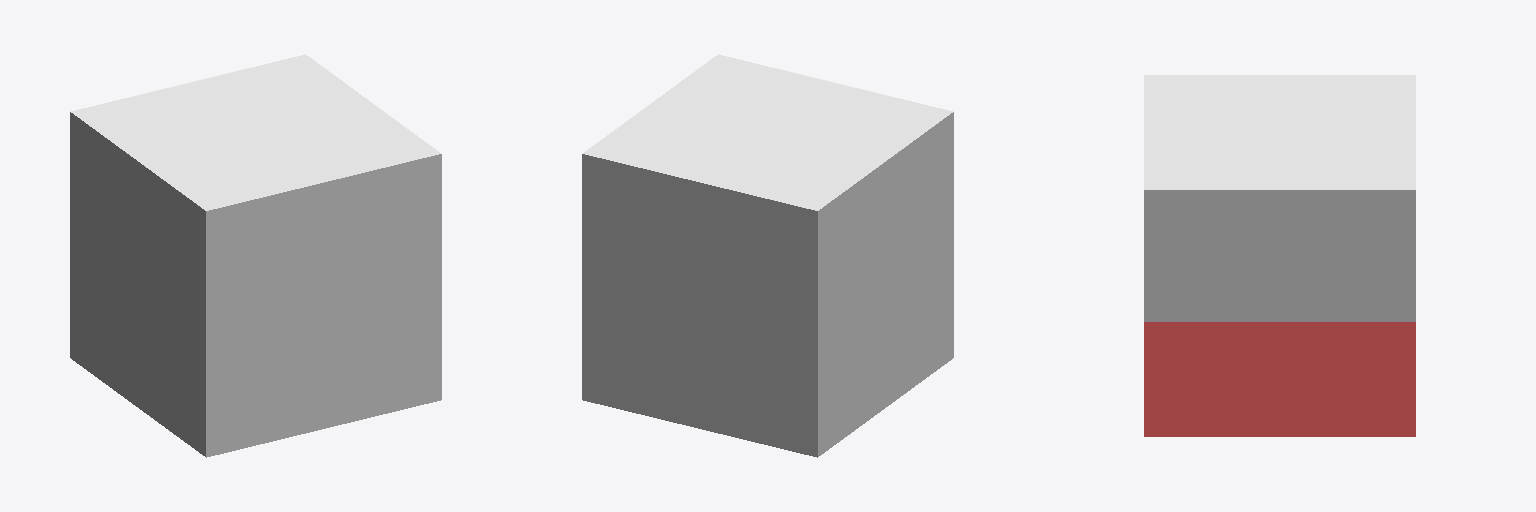
The model's file is room.obj.
3 renders of one model, left to right at view 1: azimuth 30°, elevation 25°; view 2: azimuth 150°, elevation 25°; view 3: azimuth 270°, elevation 25°, orthographic.
Visible parts, largest first — view 1: cube; view 2: cube; view 3: cube.
Boxes of the visible parts, <box> form: cube: <box>70,54,441,457</box>; cube: <box>582,54,953,457</box>; cube: <box>1144,75,1415,436</box>.
Size of the model in its own units: 2 by 2 by 2.